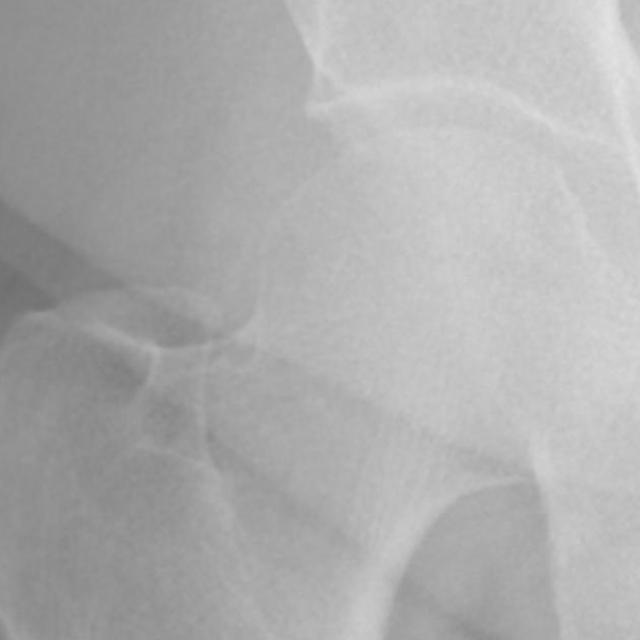Fitted_femural_head: (406, 133, 432, 406)
